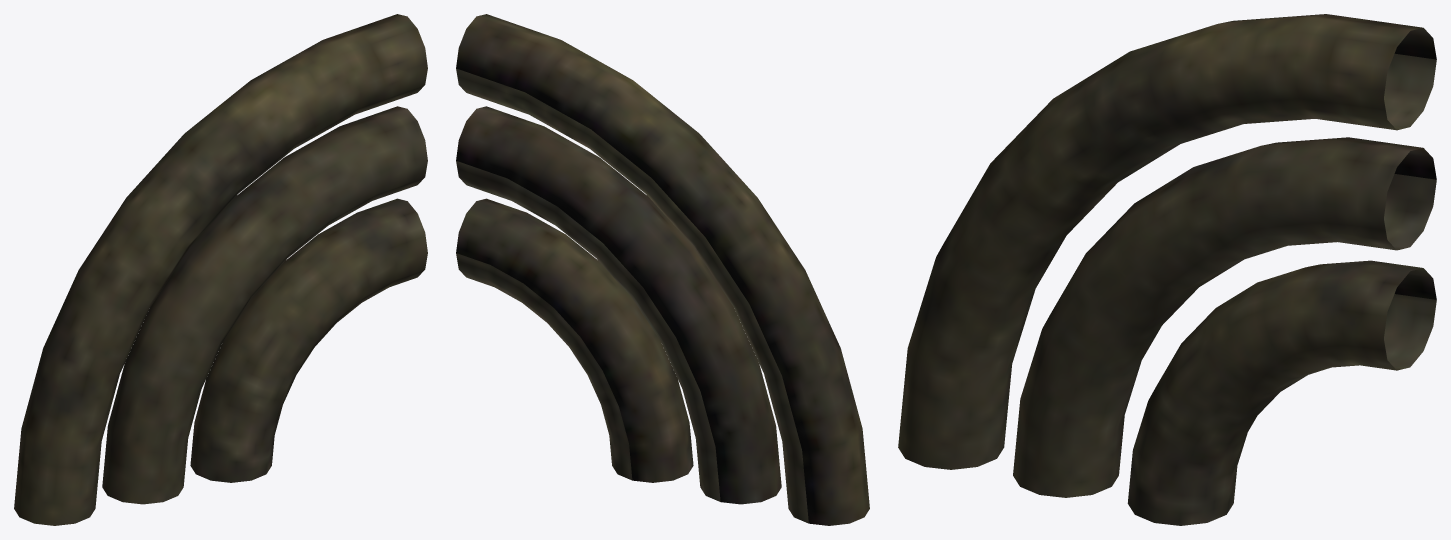
The model's file is pipes_hr_1_elbow_1.obj.
The picture shows the model from 3 angles, left to right: view 1: azimuth 30°, elevation 25°; view 2: azimuth 150°, elevation 25°; view 3: azimuth 330°, elevation 25°; orthographic projection. The views are drawn at different scales.
Visible parts, largest first — view 1: pipes_hr_1_elbow_1; view 2: pipes_hr_1_elbow_1; view 3: pipes_hr_1_elbow_1.
Part boxes in pixels (<box>): pipes_hr_1_elbow_1: <box>14,14,427,525</box>; pipes_hr_1_elbow_1: <box>456,14,869,525</box>; pipes_hr_1_elbow_1: <box>898,14,1436,525</box>.
Bounding box in the file's own units: 0.44 × 0.44 × 0.08.
